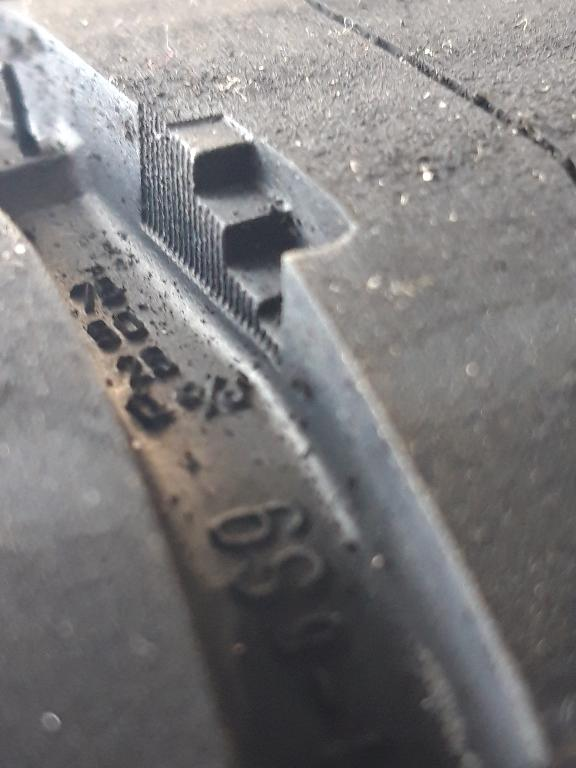temoin:75: (160, 109, 366, 383)
